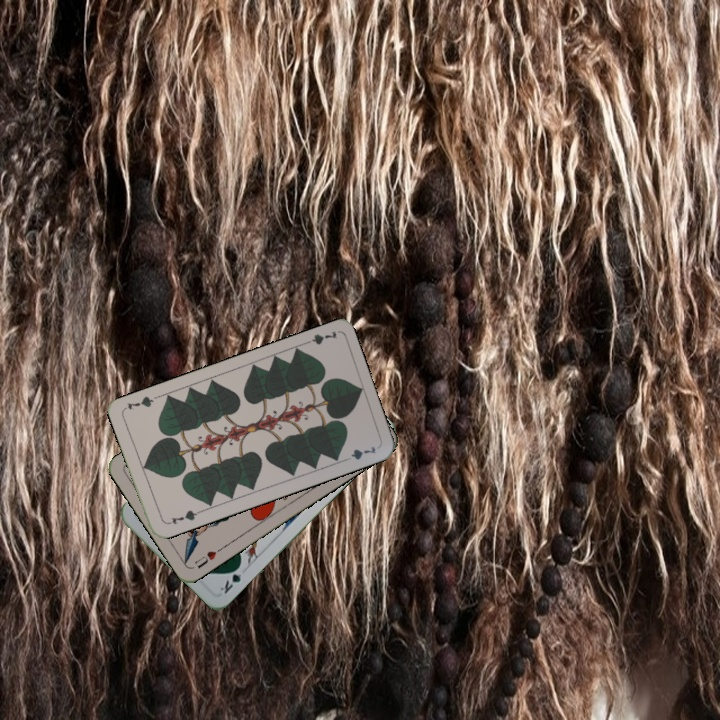G7: (299, 327, 340, 347), (163, 506, 202, 527)
GK: (216, 561, 245, 597)
HU: (190, 543, 225, 571)
